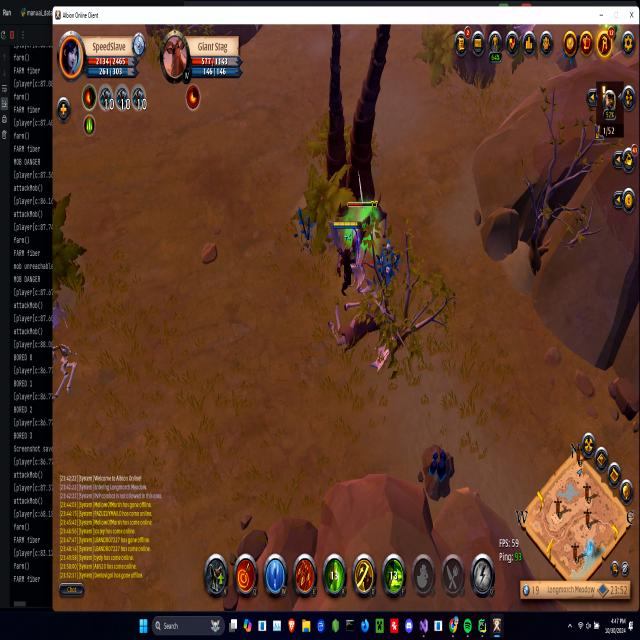hide: (372, 237, 402, 287)
mob: (325, 282, 403, 374)
ore: (333, 190, 389, 280)
player: (418, 445, 455, 500)
red: (332, 218, 360, 296)
